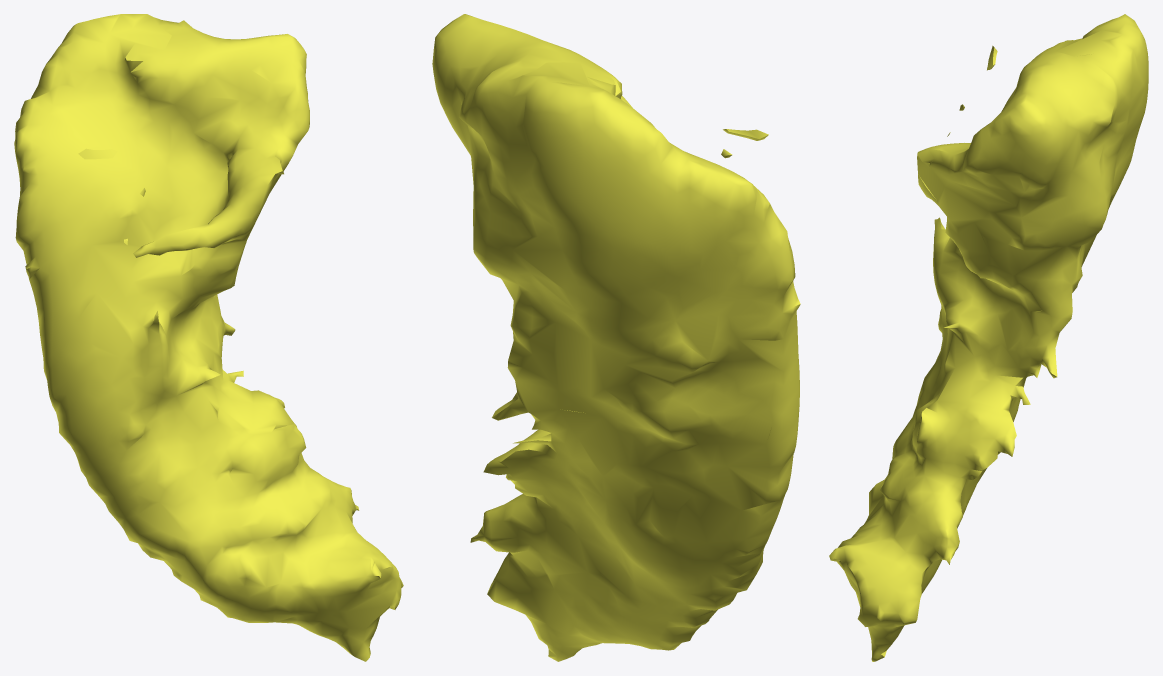
The model's file is spl-17.glb.
3 renders of one model, left to right at view 1: azimuth 30°, elevation 25°; view 2: azimuth 150°, elevation 25°; view 3: azimuth 270°, elevation 25°, orthographic. The views are drawn at different scales.
Visible parts, largest first — view 1: spl-17; view 2: spl-17; view 3: spl-17.
Part boxes in pixels (x1,y1,x2,y2): spl-17: (14,14,403,661); spl-17: (432,14,800,661); spl-17: (829,14,1148,661).
Bounding box in the file's own units: 25.32 × 45.79 × 23.2.
